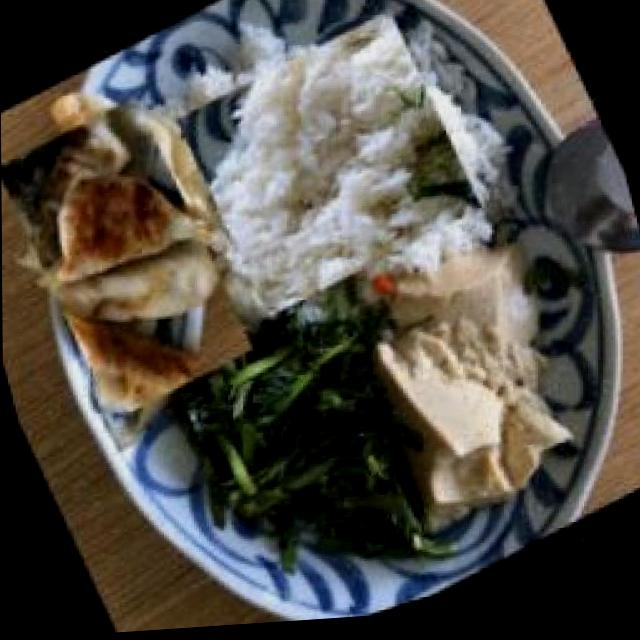fried_dumplings: (1, 78, 261, 440)
rice: (168, 0, 490, 336)
water_spinach: (187, 314, 406, 543)
